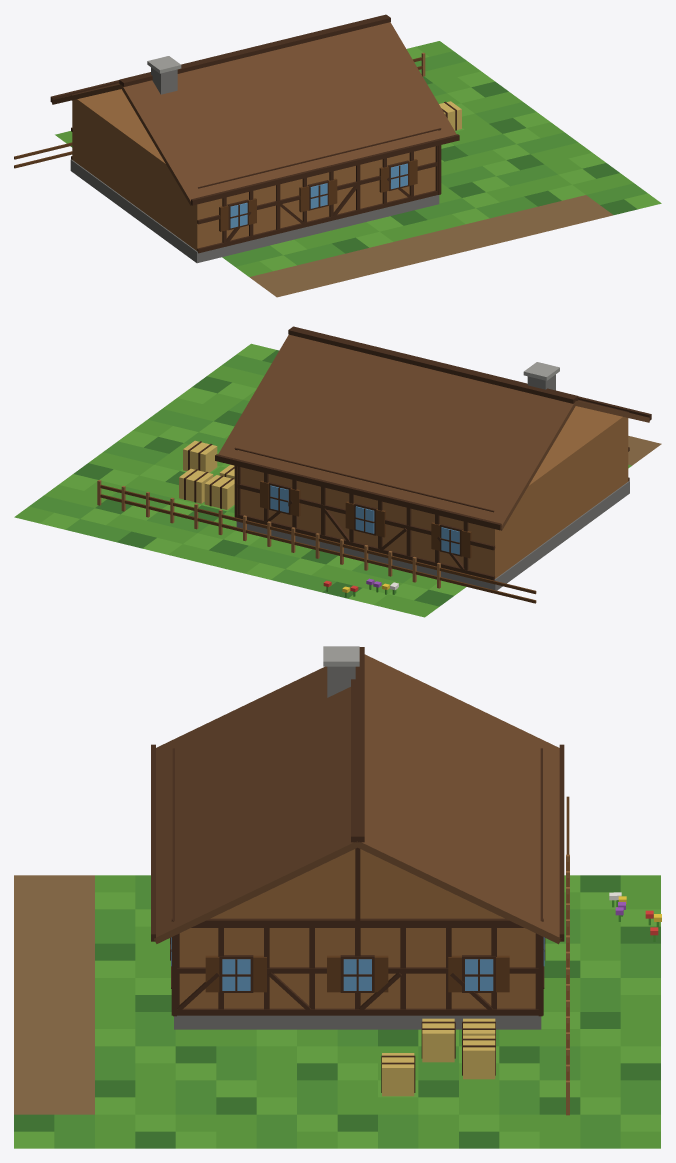
File: chunk_3_9.glb
3 renders of one model, top to bottom at view 1: azimuth 30°, elevation 25°; view 2: azimuth 150°, elevation 25°; view 3: azimuth 270°, elevation 25°, orthographic. The views are drawn at different scales.
Visible parts, largest first — view 1: chunk_3_9; view 2: chunk_3_9; view 3: chunk_3_9.
Boxes of the visible parts, box(x1,y1,x2,y2) form: chunk_3_9: box(14, 14, 661, 297); chunk_3_9: box(14, 326, 661, 617); chunk_3_9: box(14, 646, 661, 1148).
Bounding box in the file's own units: 19 × 6.04 × 16.02.
